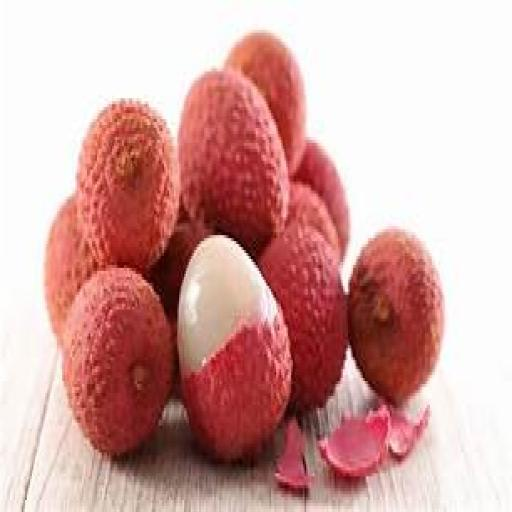lychee: (177, 236, 290, 461), (63, 268, 174, 455), (179, 69, 288, 253), (76, 102, 179, 270), (259, 224, 347, 410), (348, 230, 442, 401), (225, 33, 305, 175), (45, 197, 99, 342), (294, 140, 348, 261), (148, 221, 209, 318), (317, 405, 388, 479), (286, 182, 338, 253), (274, 417, 311, 491), (388, 405, 429, 458)
